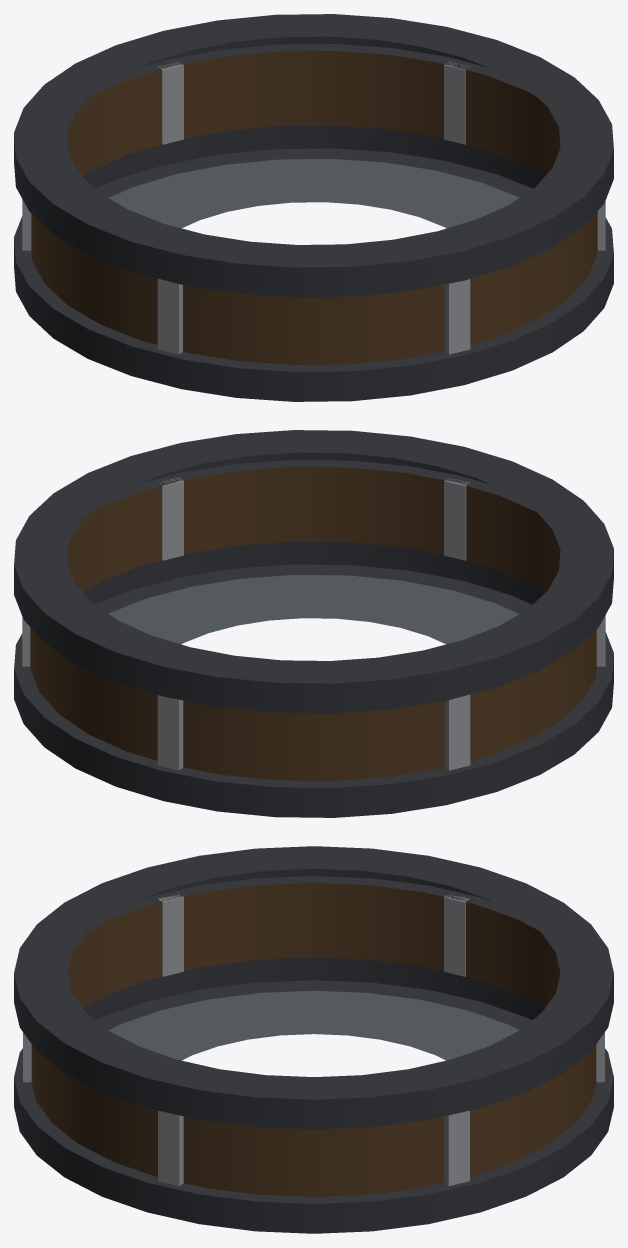
Rendered from fcrcs_coil.obj.
3 views of the same model, one above another, from view 1: azimuth 30°, elevation 25°; view 2: azimuth 150°, elevation 25°; view 3: azimuth 270°, elevation 25° (orthographic).
Visible parts, largest first — view 1: fcrcs_coil; view 2: fcrcs_coil; view 3: fcrcs_coil.
Part boxes in pixels (x1,y1,x2,y2): fcrcs_coil: [14, 14, 613, 401]; fcrcs_coil: [14, 430, 613, 817]; fcrcs_coil: [14, 846, 613, 1233].
Bounding box in the file's own units: 0.73 × 0.18 × 0.73.
